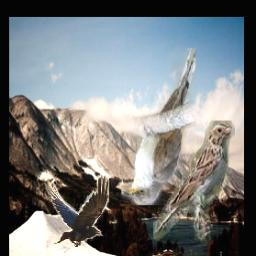Crow: (45, 173, 110, 247)
Cuckoo: (121, 48, 196, 205)
Sparrow: (154, 122, 236, 244)
